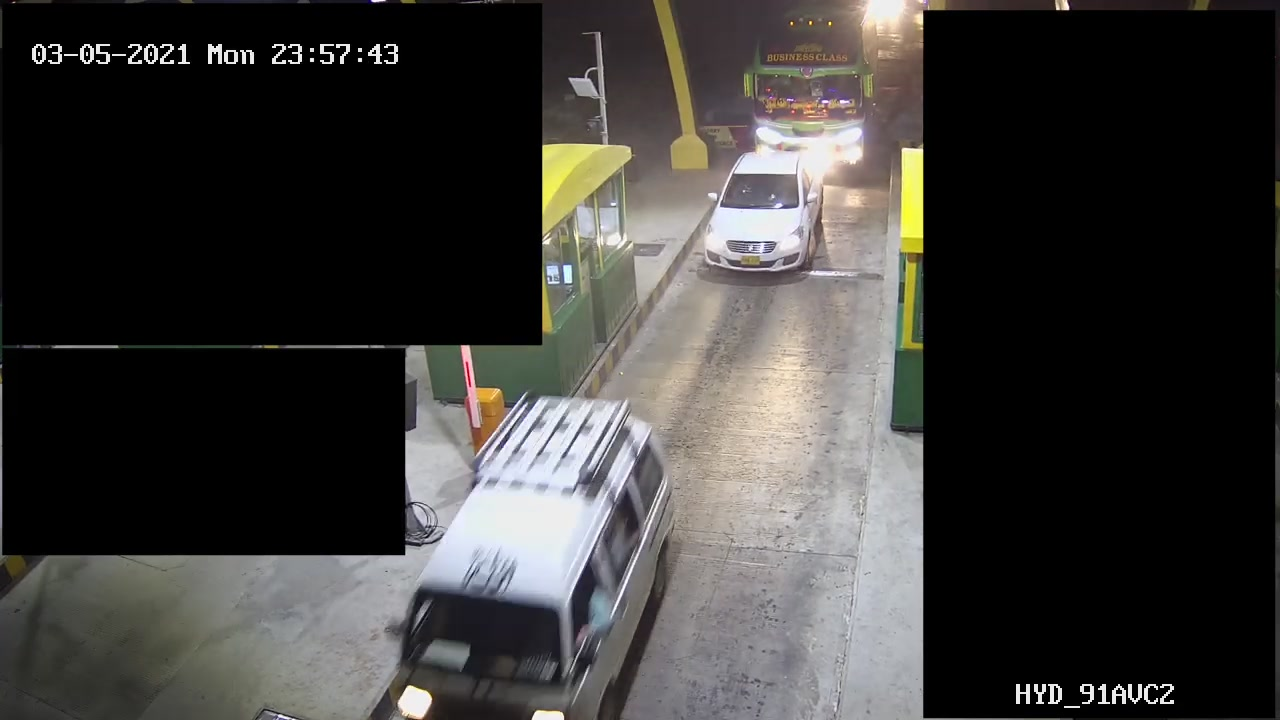F1: (689, 148, 831, 282)
